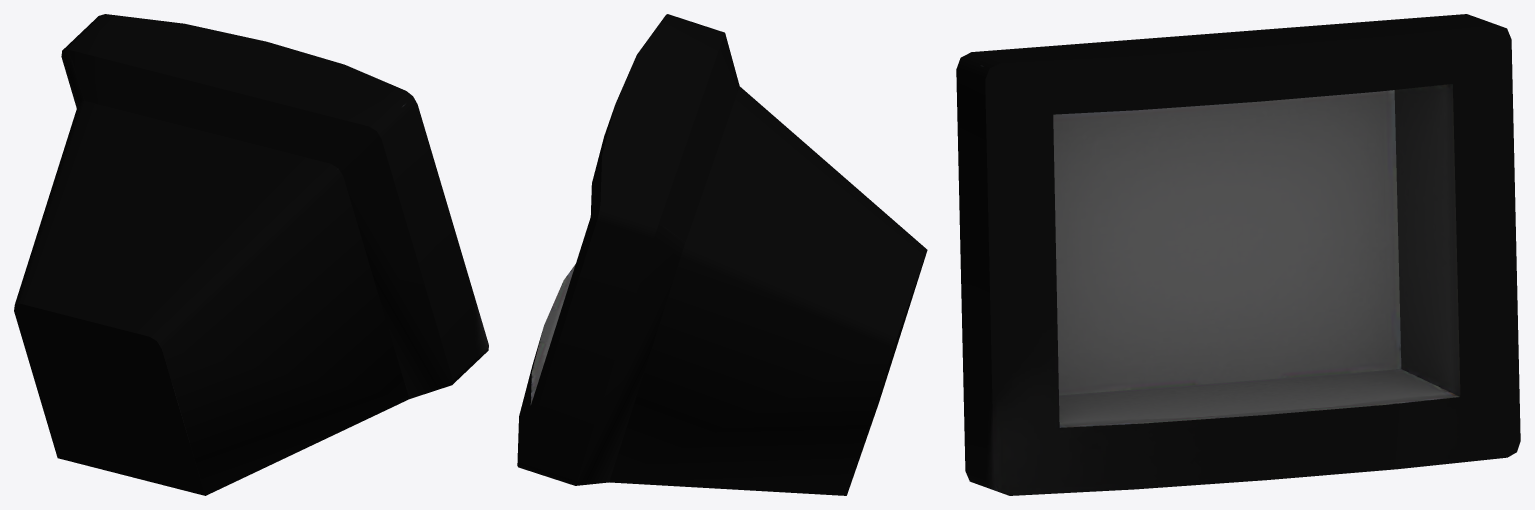
3 renders of one model, left to right at view 1: azimuth 30°, elevation 25°; view 2: azimuth 150°, elevation 25°; view 3: azimuth 270°, elevation 25°, orthographic. The views are drawn at different scales.
Visible parts, largest first — view 1: tv 8; view 2: tv 8; view 3: tv 8.
Boxes of the visible parts, <box> form: tv 8: <box>14,14,488,495</box>; tv 8: <box>517,14,927,495</box>; tv 8: <box>956,14,1520,495</box>.
Bounding box in the file's own units: 223 × 206 × 196.
1 material, 1 textured.
